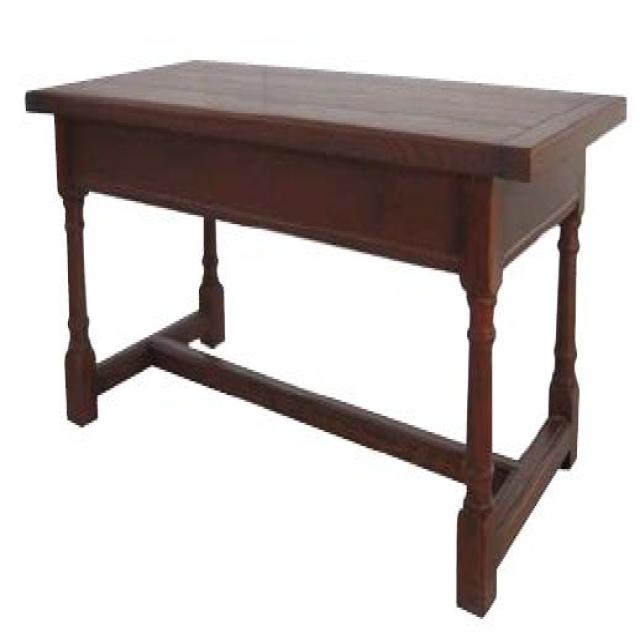table: (24, 59, 626, 625)
